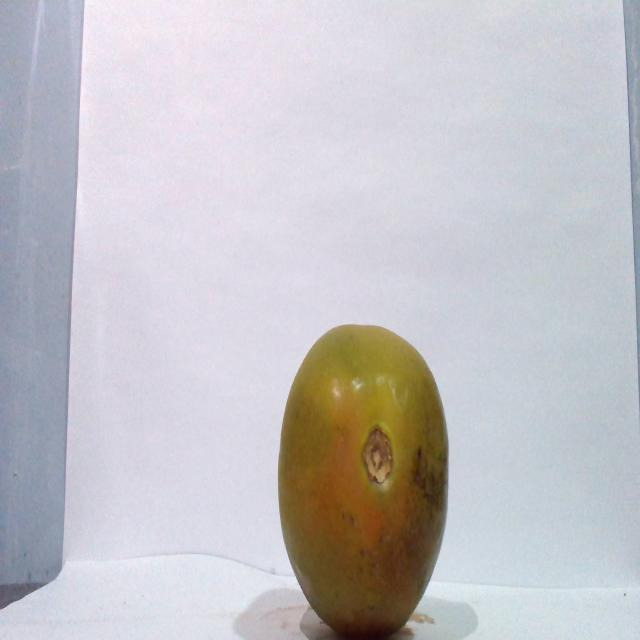Red: (276, 321, 450, 637)
